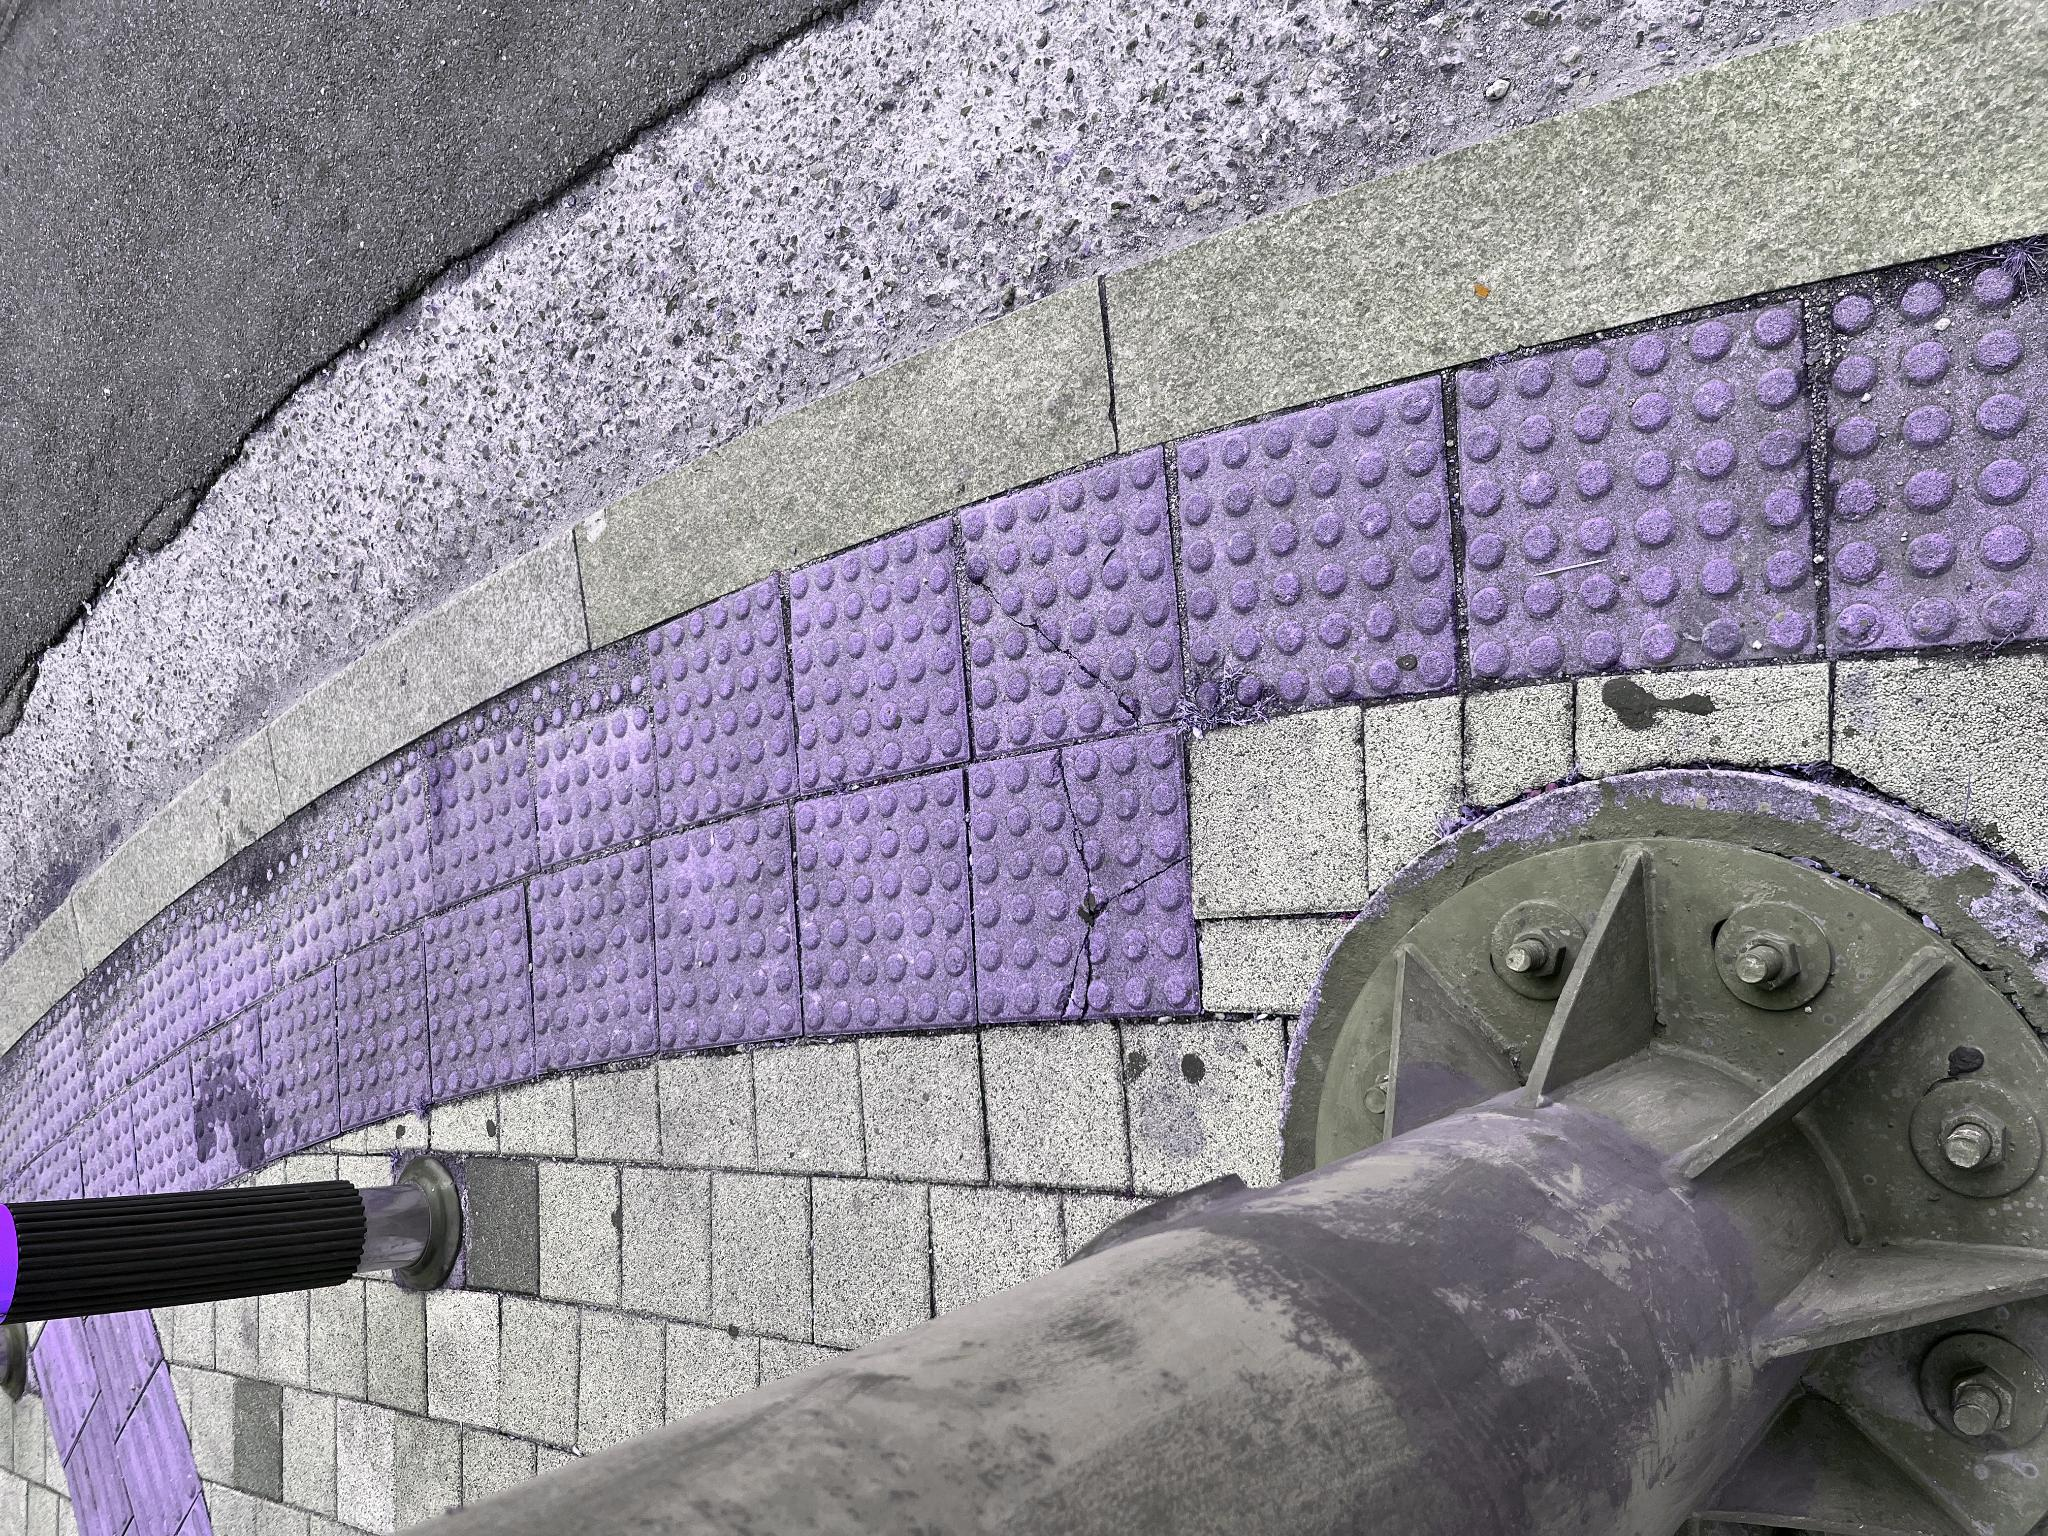Stop block broken: (782, 955, 1089, 1186), (514, 970, 808, 1196)
Stop block normal: (743, 787, 1022, 968), (502, 794, 766, 971), (464, 528, 689, 655)
